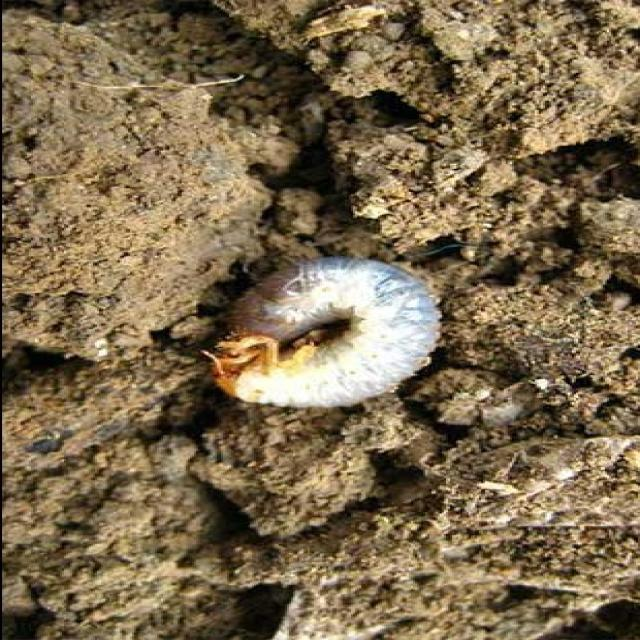grub: (202, 259, 444, 410)
